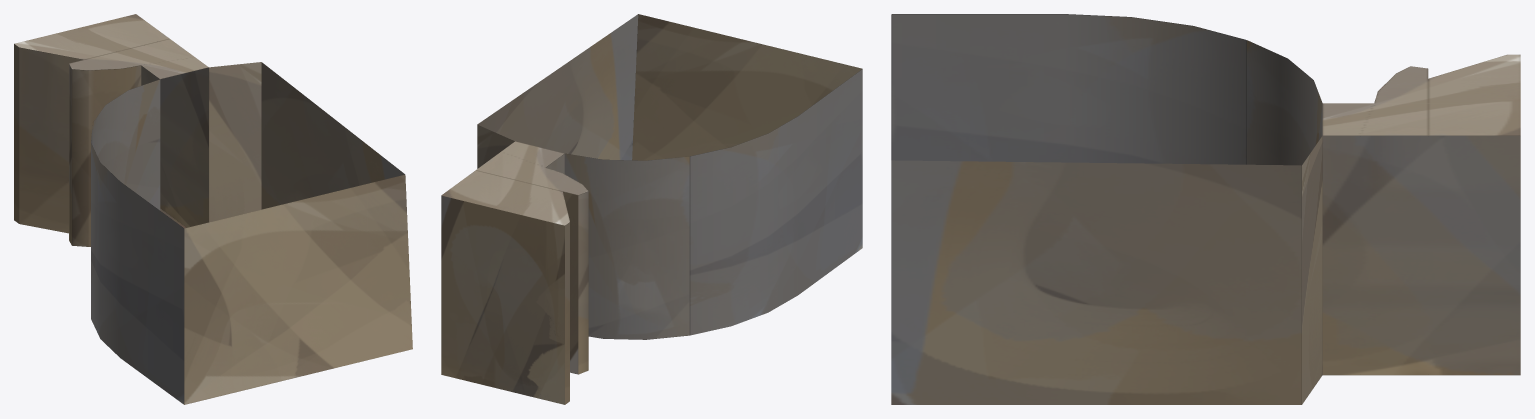
File: Glass.fbx
3 views of the same model, side by side, from view 1: azimuth 30°, elevation 25°; view 2: azimuth 150°, elevation 25°; view 3: azimuth 270°, elevation 25° (orthographic). The views are drawn at different scales.
Parts seen in each view (by area): view 1: pCube4; view 2: pCube4; view 3: pCube4.
Part boxes in pixels (x1,y1,x2,y2): pCube4: [14, 14, 412, 404]; pCube4: [441, 14, 862, 404]; pCube4: [891, 14, 1520, 404].
Bounding box in the file's own units: 1.35 × 1 × 2.38.
